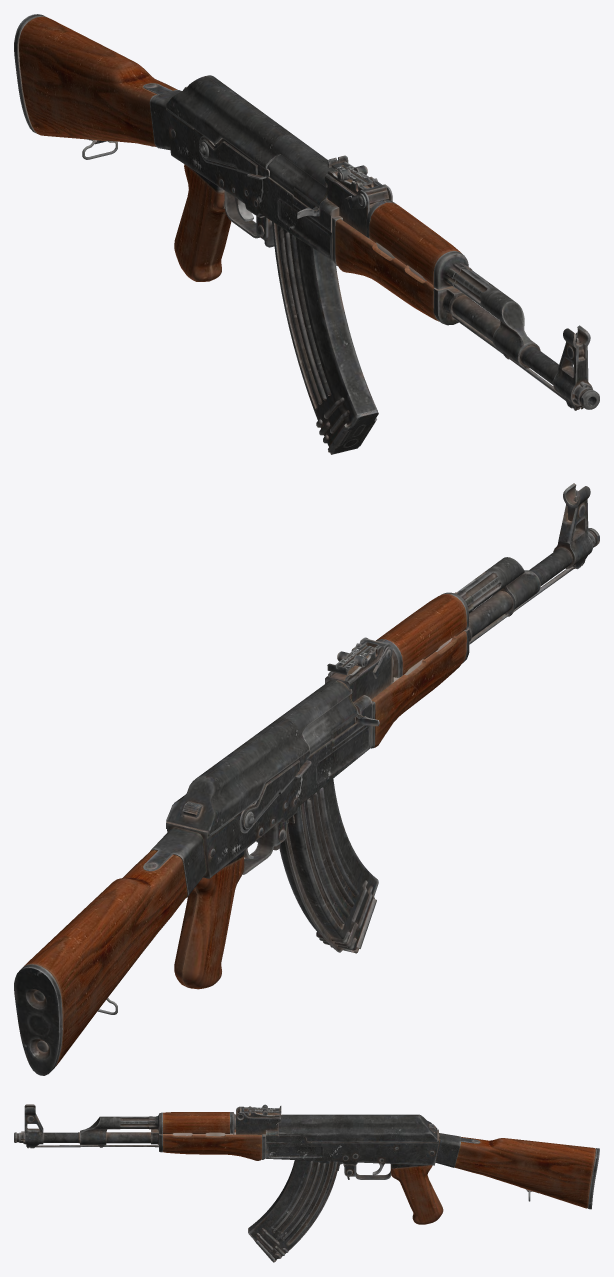
3 views of the same model, one above another, from view 1: azimuth 30°, elevation 25°; view 2: azimuth 150°, elevation 25°; view 3: azimuth 270°, elevation 25° (orthographic). The views are drawn at different scales.
Visible parts, largest first — view 1: Body, Mag, Bolt; view 2: Body, Mag, Bolt; view 3: Body, Mag.
Part boxes in pixels (x1,y1,x2,y2): Body: (14,14,599,410); Mag: (272,221,378,454); Bolt: (267,154,327,218); Body: (14,483,599,1075); Mag: (279,779,378,953); Bolt: (303,695,379,754); Body: (14,1104,599,1224); Mag: (248,1160,342,1262).
Bounding box in the file's own units: 0.0573 × 0.2546 × 0.88.
Materials: 1 (1 with a texture image).
